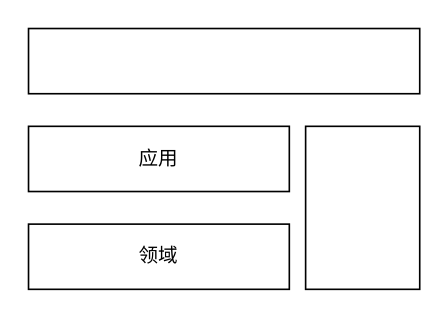
The diagram is 448 pixels wide and 318 high, and some of its shapes have lost their labels. The centre of each missing label's shape, as x and y in pixels:
"基础设施" goes at pixel 362 207.
"接口" goes at pixel 223 60.
